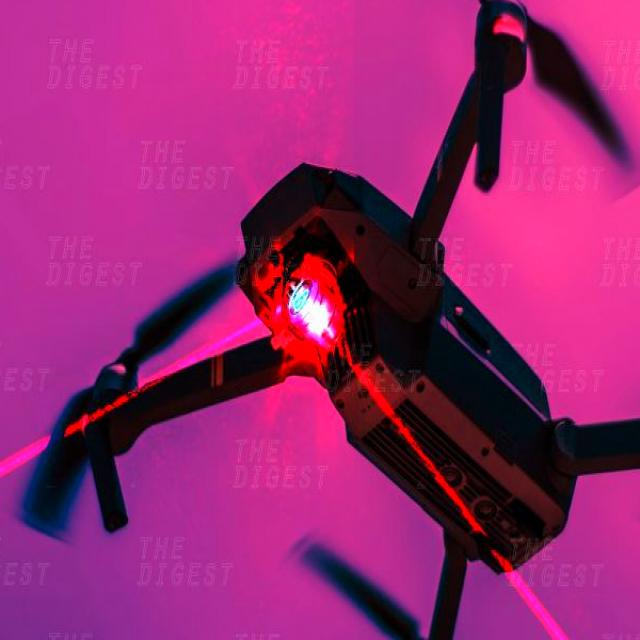drone: (53, 45, 640, 640)
